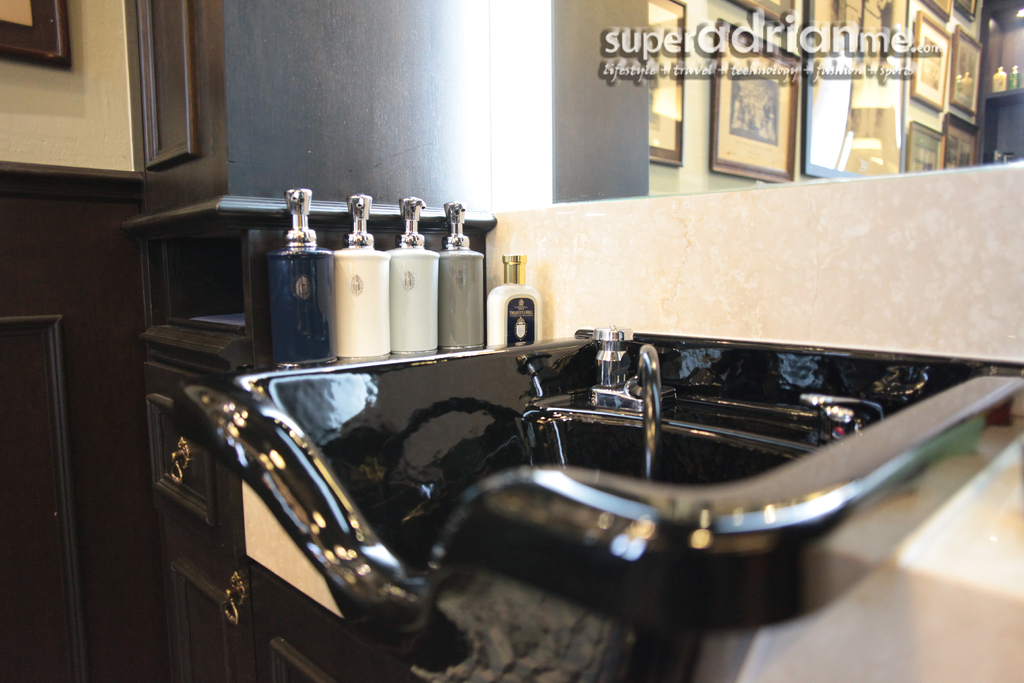Cabinetry: (116, 192, 495, 682)
